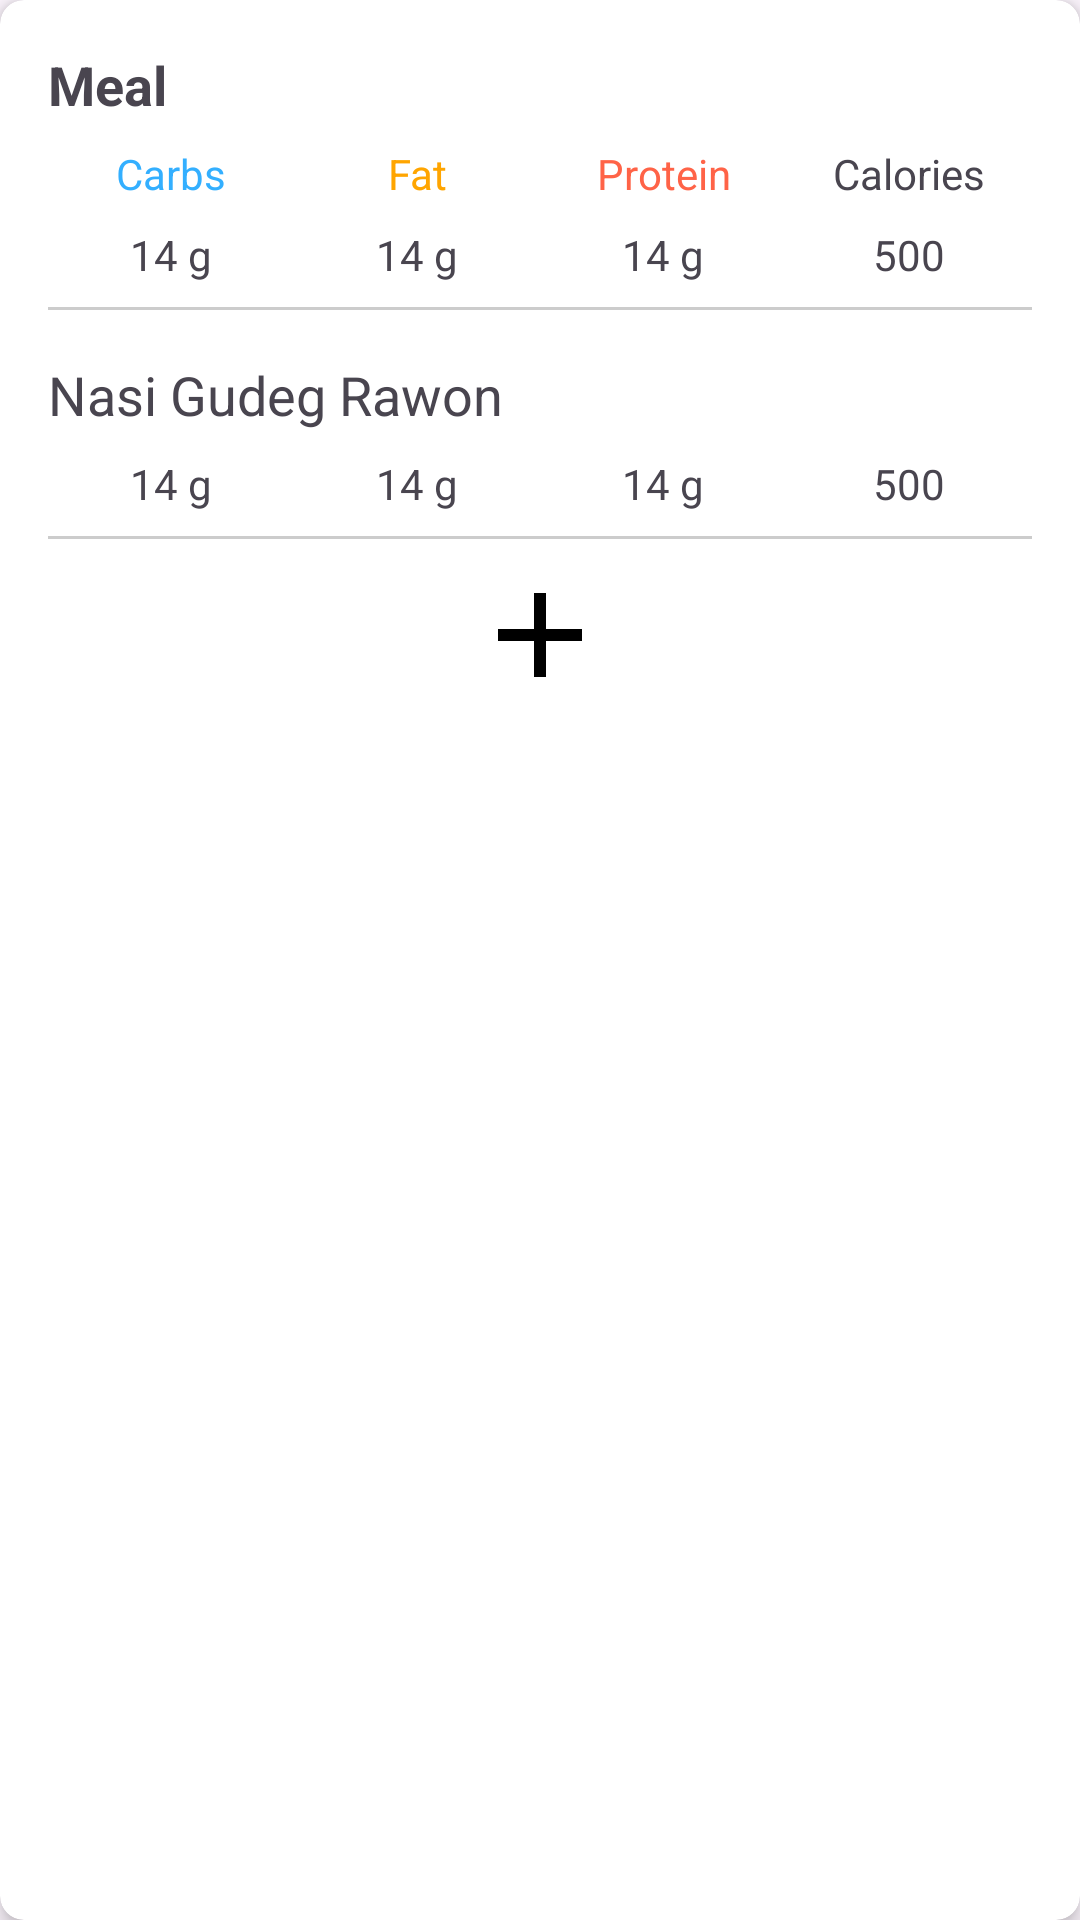

Named icons in this screenshot (1080px×1920px) and their bounding boxes, [x1,y1,x2,y2]:
add: [498,593,582,677]
